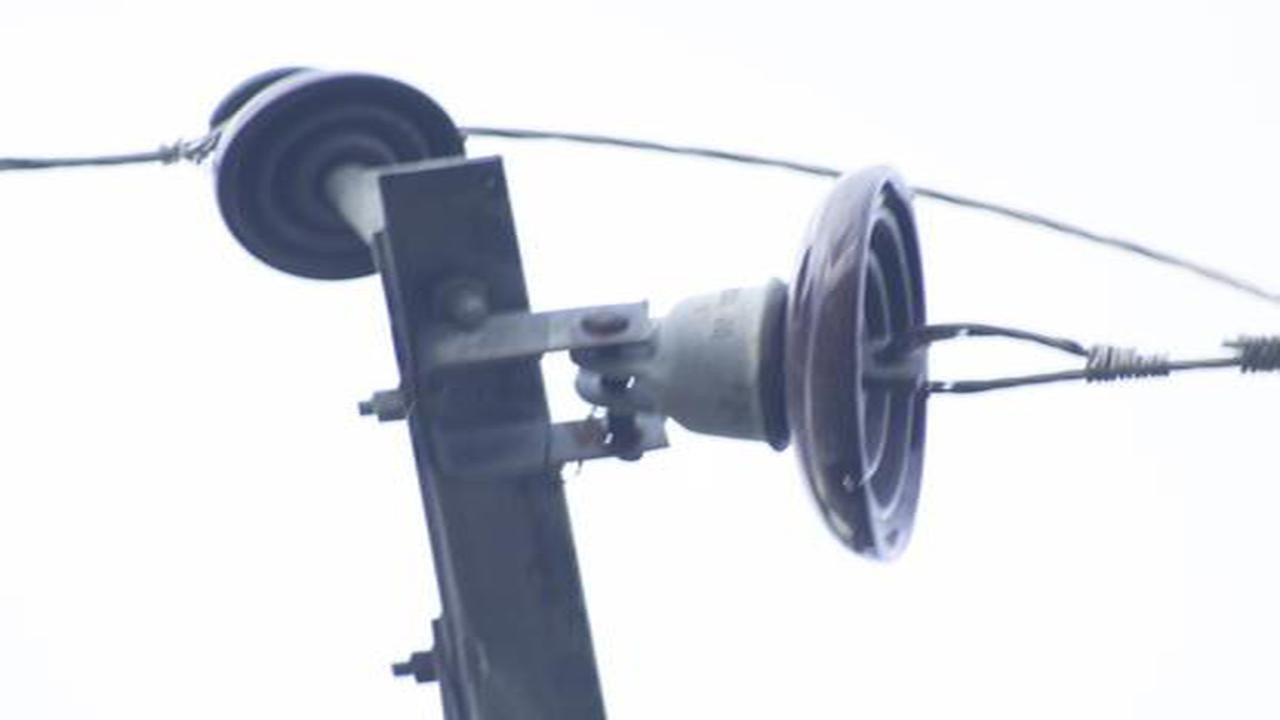insulator_disc: (650, 159, 939, 568)
insulator_pin: (200, 56, 380, 279)
